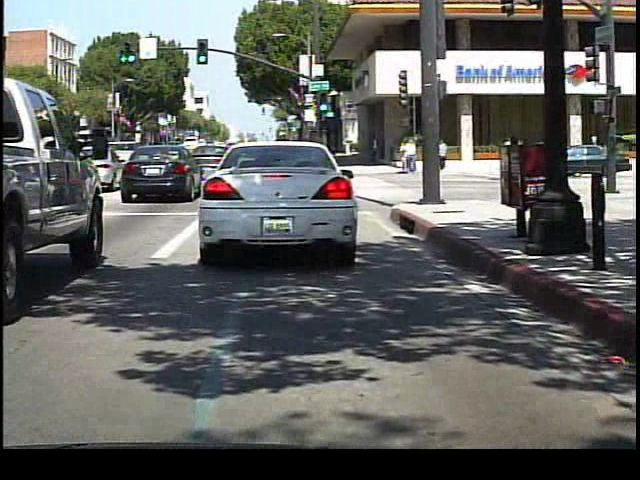person: (499, 134, 520, 175), (401, 136, 419, 178), (438, 135, 452, 171)
